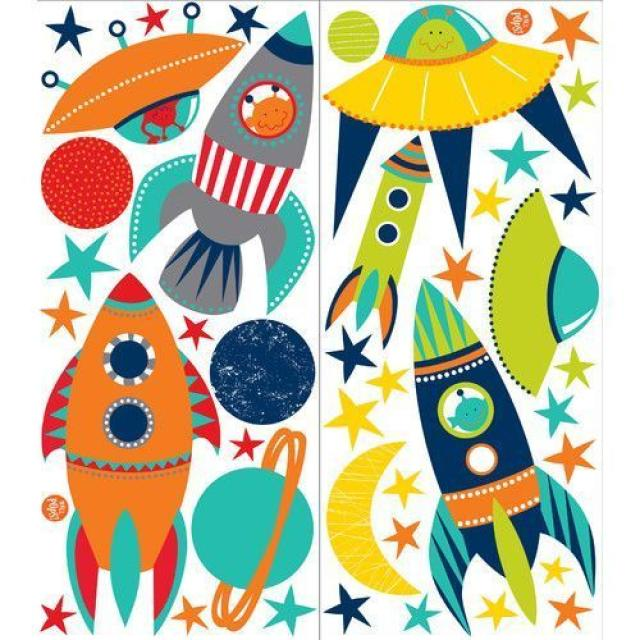rocket: (34, 267, 227, 639), (406, 272, 601, 635), (123, 7, 325, 318), (322, 132, 434, 354)
